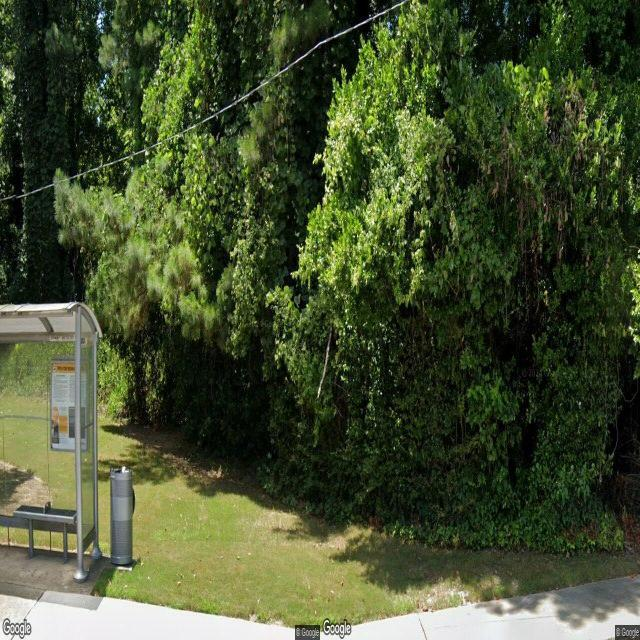seating: (14, 504, 76, 564)
shelter: (0, 301, 104, 581)
trash_can: (110, 466, 134, 566)
